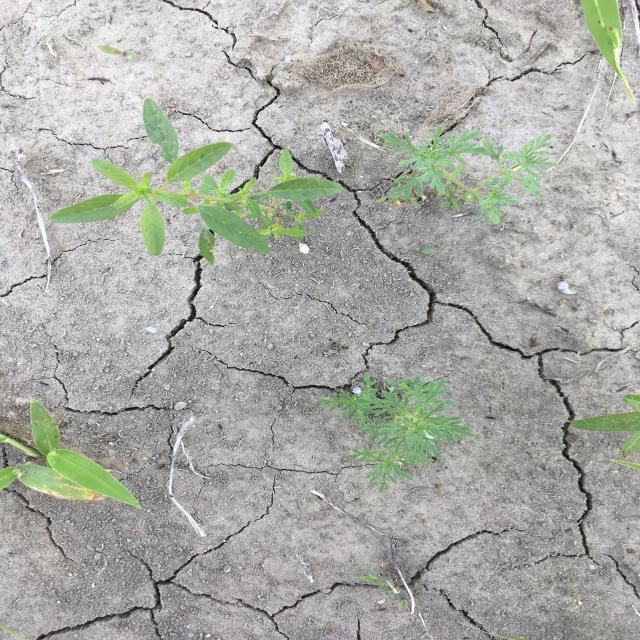Ragweed: (313, 370, 477, 496), (377, 123, 558, 227)
Waterhemp: (48, 97, 346, 265)
